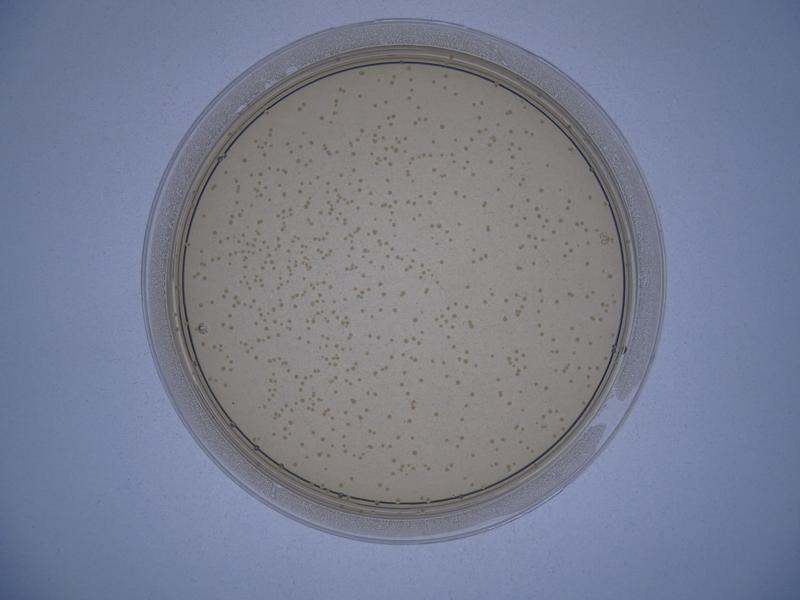colony: (465, 387, 484, 403), (426, 407, 444, 423), (505, 201, 521, 218), (452, 413, 471, 427), (412, 372, 429, 387), (387, 302, 402, 318), (422, 194, 436, 211), (493, 370, 507, 387), (404, 445, 422, 458), (461, 282, 477, 296), (425, 135, 443, 147), (451, 373, 465, 388), (406, 311, 422, 324), (381, 174, 397, 187), (551, 294, 564, 310), (355, 268, 371, 281), (382, 410, 399, 422), (354, 124, 371, 136), (392, 427, 404, 443), (499, 292, 511, 308), (451, 219, 468, 230), (351, 89, 365, 102), (373, 332, 386, 346), (433, 257, 448, 269), (376, 288, 389, 301), (438, 118, 450, 132), (379, 96, 393, 108), (456, 430, 469, 442), (291, 332, 304, 343), (278, 187, 289, 200), (536, 184, 547, 196), (536, 296, 547, 306)
